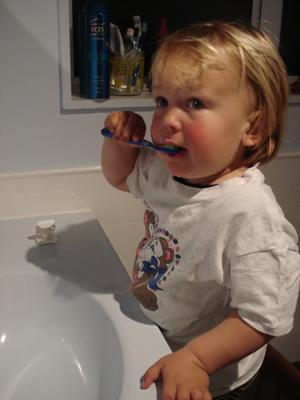person: (101, 20, 300, 400)
